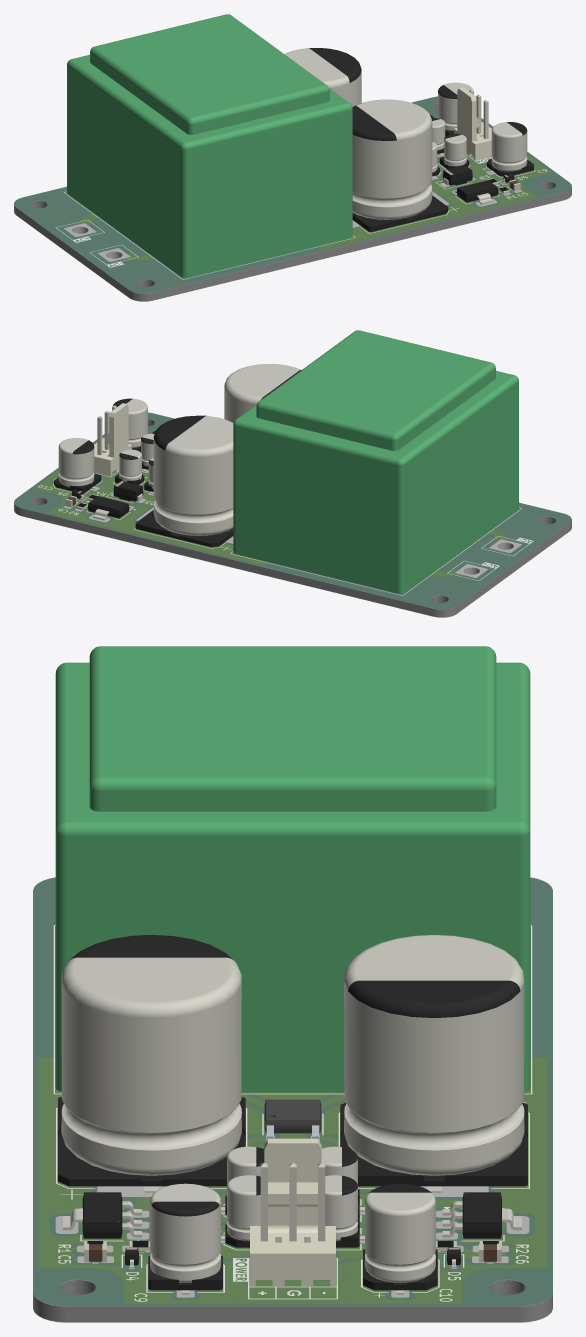
The model's file is PowerSupply.glb.
3 renders of one model, top to bottom at view 1: azimuth 30°, elevation 25°; view 2: azimuth 150°, elevation 25°; view 3: azimuth 270°, elevation 25°, orthographic. The views are drawn at different scales.
Parts seen in each view (by area): view 1: =>[0:1:1:3], =>[0:1:1:17], =>[0:1:1:18], C1, C2, =>[0:1:1:13], C9, J3, =>[0:1:1:16], C10, =>[0:1:1:14], C7 (+3 smaller); view 2: =>[0:1:1:3], =>[0:1:1:17], =>[0:1:1:18], C2, C1, =>[0:1:1:13], C10, J3, =>[0:1:1:16], C9, =>[0:1:1:14], C8 (+3 smaller); view 3: =>[0:1:1:3], =>[0:1:1:17], C2, C1, =>[0:1:1:18], =>[0:1:1:13], J3, C9, C10, =>[0:1:1:16], =>[0:1:1:14], U2 (+6 smaller).
Boxes of the visible parts, x1,y1,x2,y2 form: =>[0:1:1:3]: [67, 14, 352, 277]; =>[0:1:1:17]: [14, 96, 571, 301]; =>[0:1:1:18]: [14, 97, 571, 301]; C1: [352, 99, 448, 231]; C2: [284, 48, 361, 106]; =>[0:1:1:13]: [79, 117, 551, 260]; C9: [486, 122, 533, 176]; J3: [454, 87, 491, 160]; =>[0:1:1:16]: [56, 155, 547, 279]; C10: [438, 82, 472, 136]; =>[0:1:1:14]: [64, 153, 522, 261]; C7: [439, 133, 469, 169]; =>[0:1:1:3]: [233, 330, 518, 593]; =>[0:1:1:17]: [14, 412, 571, 617]; =>[0:1:1:18]: [14, 413, 571, 617]; C2: [135, 415, 233, 547]; C1: [224, 364, 301, 422]; =>[0:1:1:13]: [34, 433, 506, 576]; C10: [54, 438, 101, 493]; J3: [94, 403, 131, 476]; =>[0:1:1:16]: [38, 471, 533, 595]; C9: [113, 398, 147, 451]; =>[0:1:1:14]: [53, 468, 521, 577]; C8: [115, 449, 144, 484]; =>[0:1:1:3]: [55, 646, 530, 1092]; =>[0:1:1:17]: [33, 877, 552, 1322]; C2: [340, 935, 527, 1192]; C1: [58, 935, 245, 1192]; =>[0:1:1:18]: [33, 878, 552, 1322]; =>[0:1:1:13]: [39, 1058, 546, 1303]; J3: [250, 1138, 335, 1286]; C9: [148, 1183, 222, 1294]; C10: [363, 1183, 437, 1294]; =>[0:1:1:16]: [53, 925, 532, 1301]; =>[0:1:1:14]: [55, 1135, 529, 1297]; U2: [442, 1192, 521, 1238].
Bounding box in the file's own units: 0.09 × 0.0341 × 0.046.
